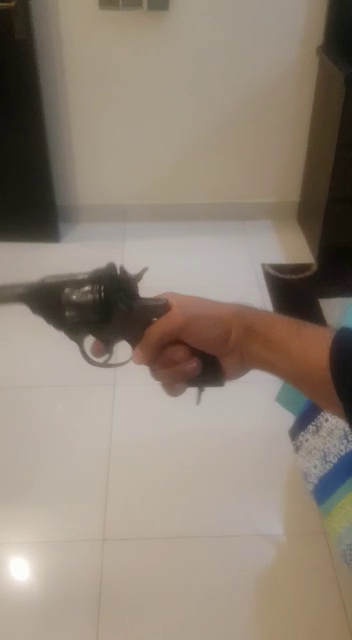handgun: (1, 245, 317, 479)
